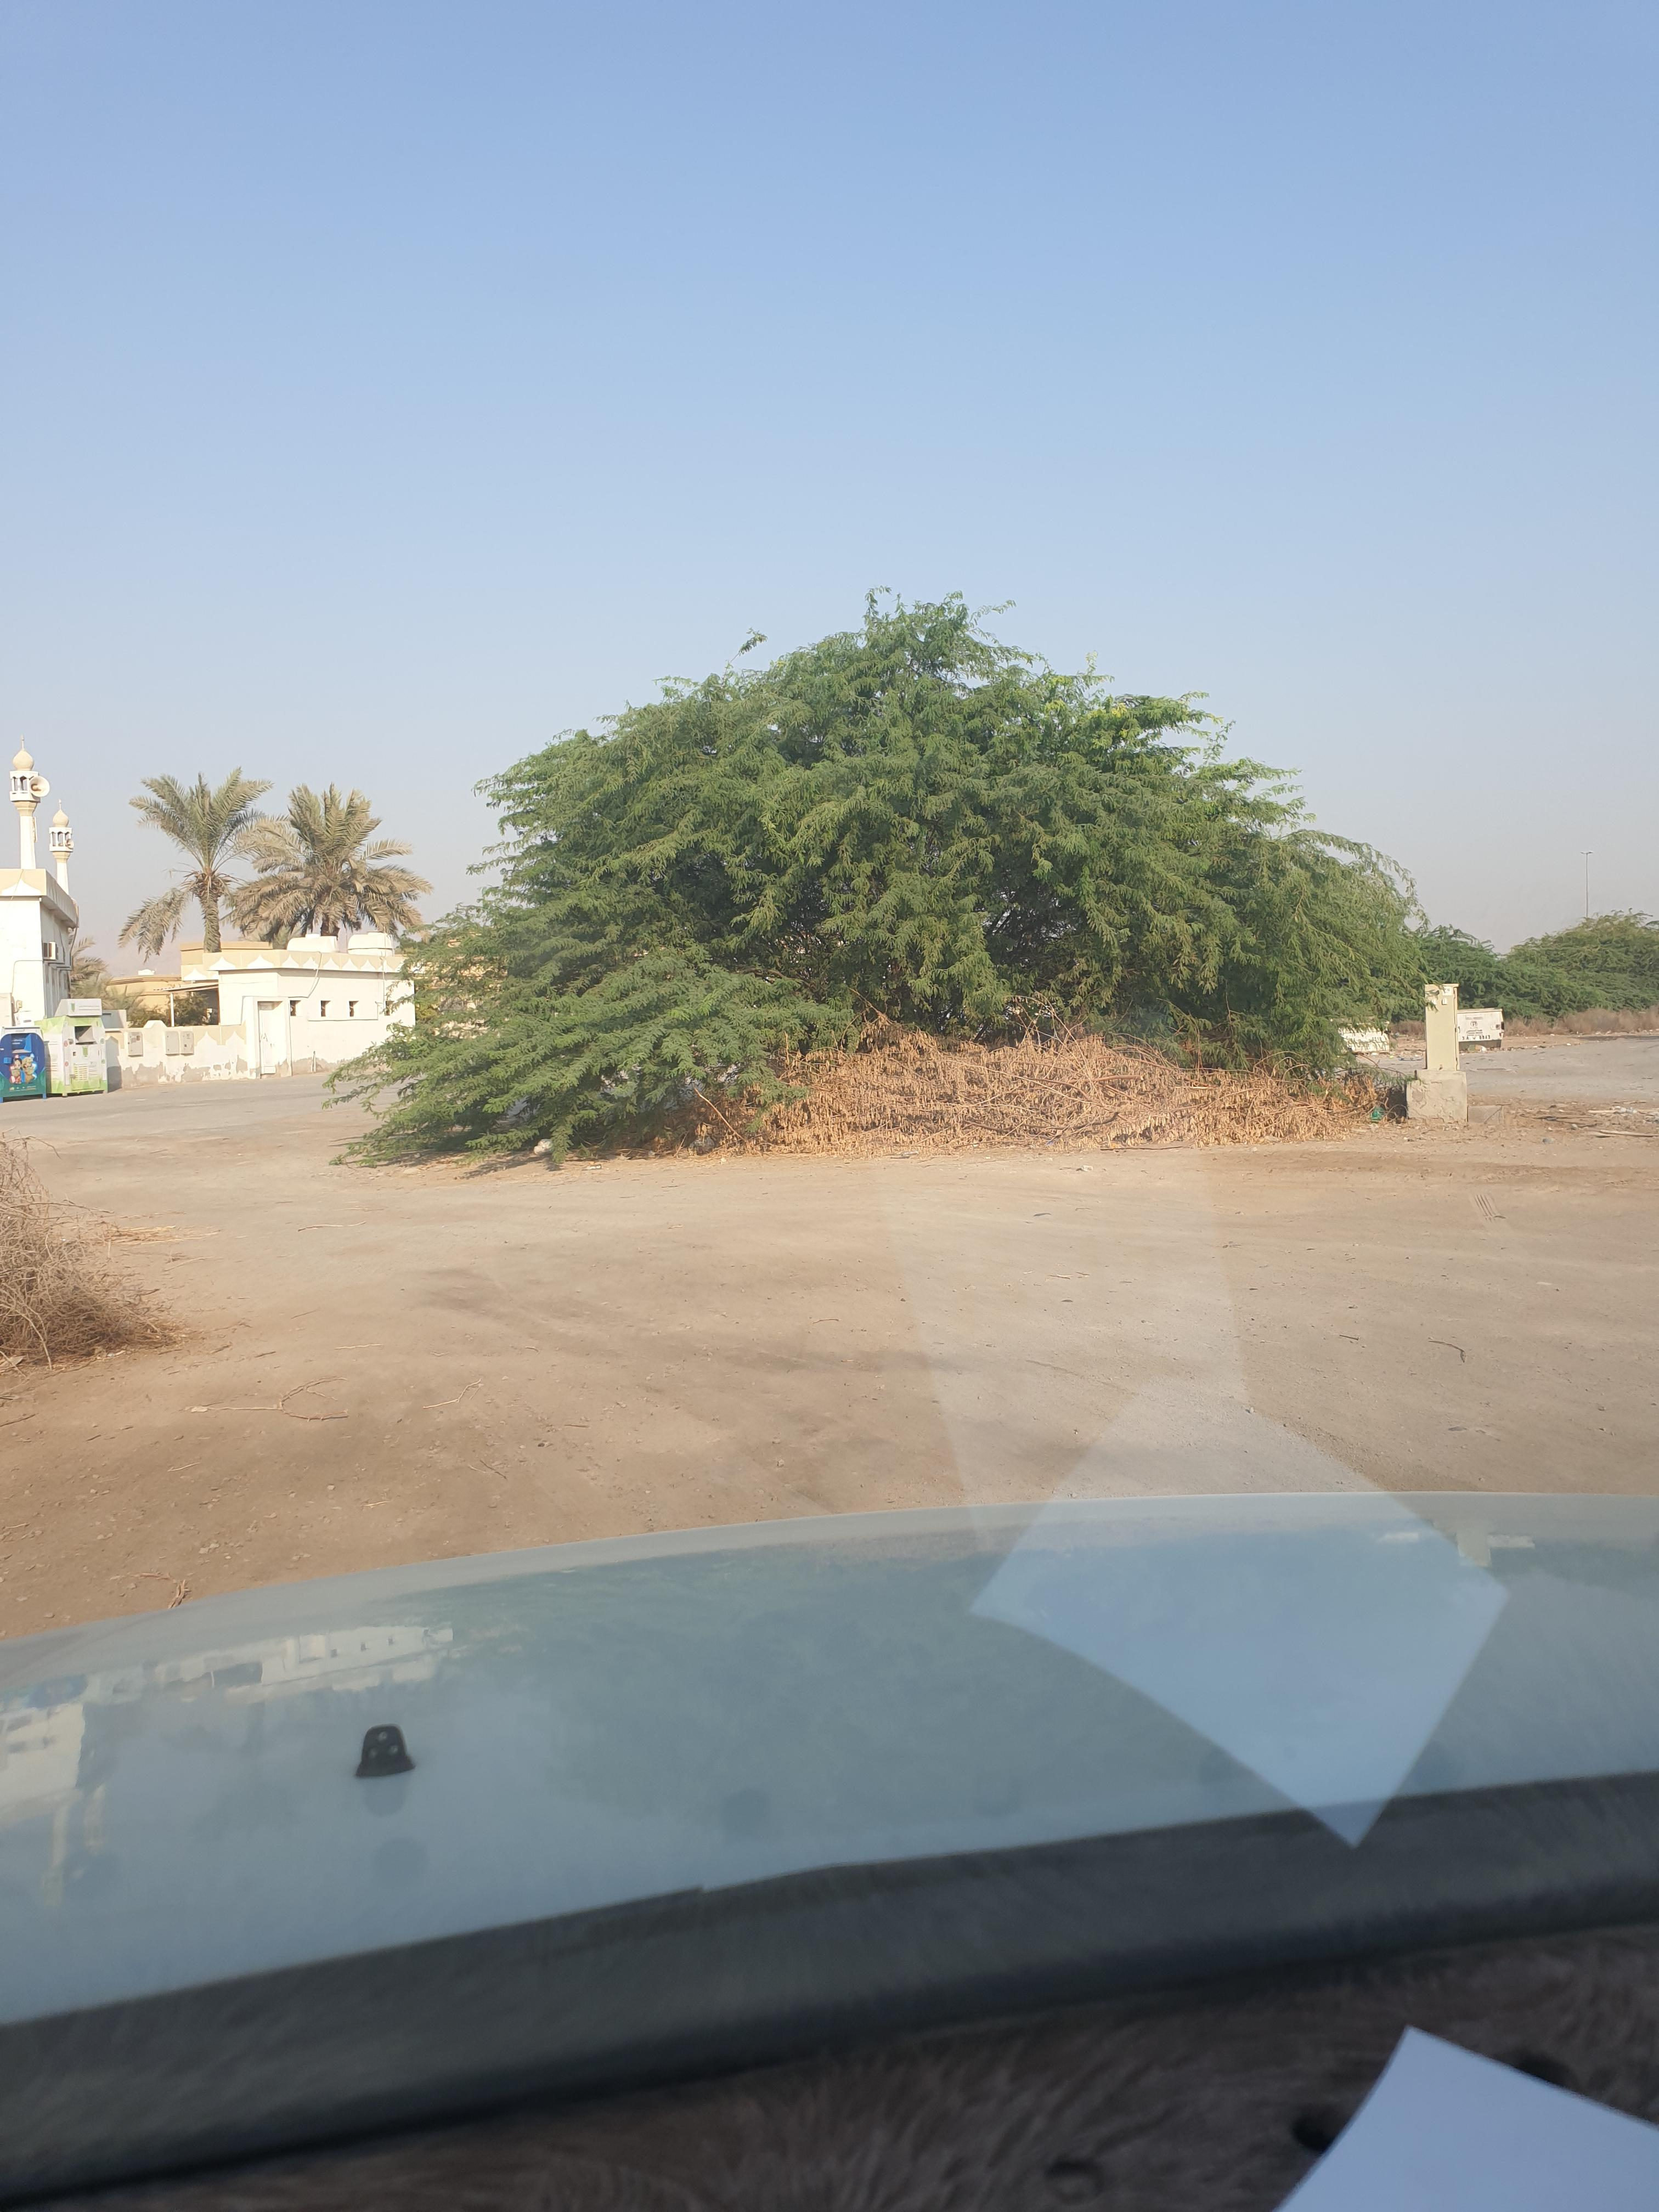fallen_trees: (30, 1176, 268, 1399), (863, 1096, 1396, 1191), (19, 1132, 122, 1442), (139, 1247, 265, 1435), (1532, 1080, 1659, 1165)
